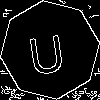U: (25, 25, 67, 76)
